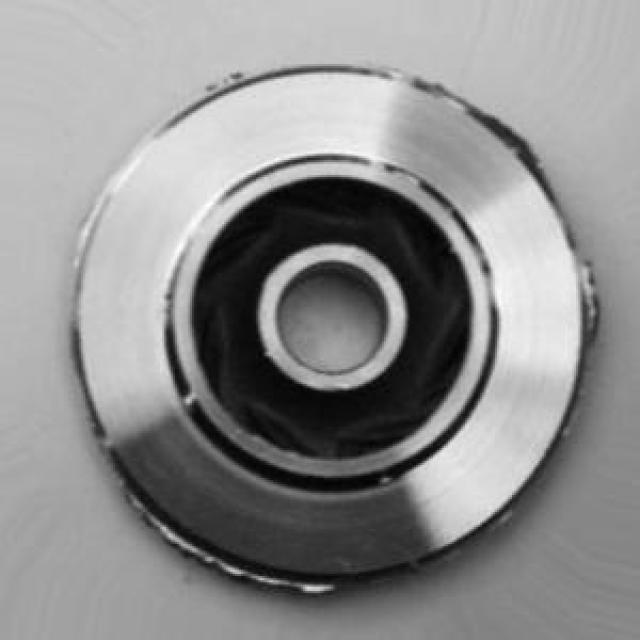Defect: (582, 263, 608, 340), (158, 524, 204, 567)
